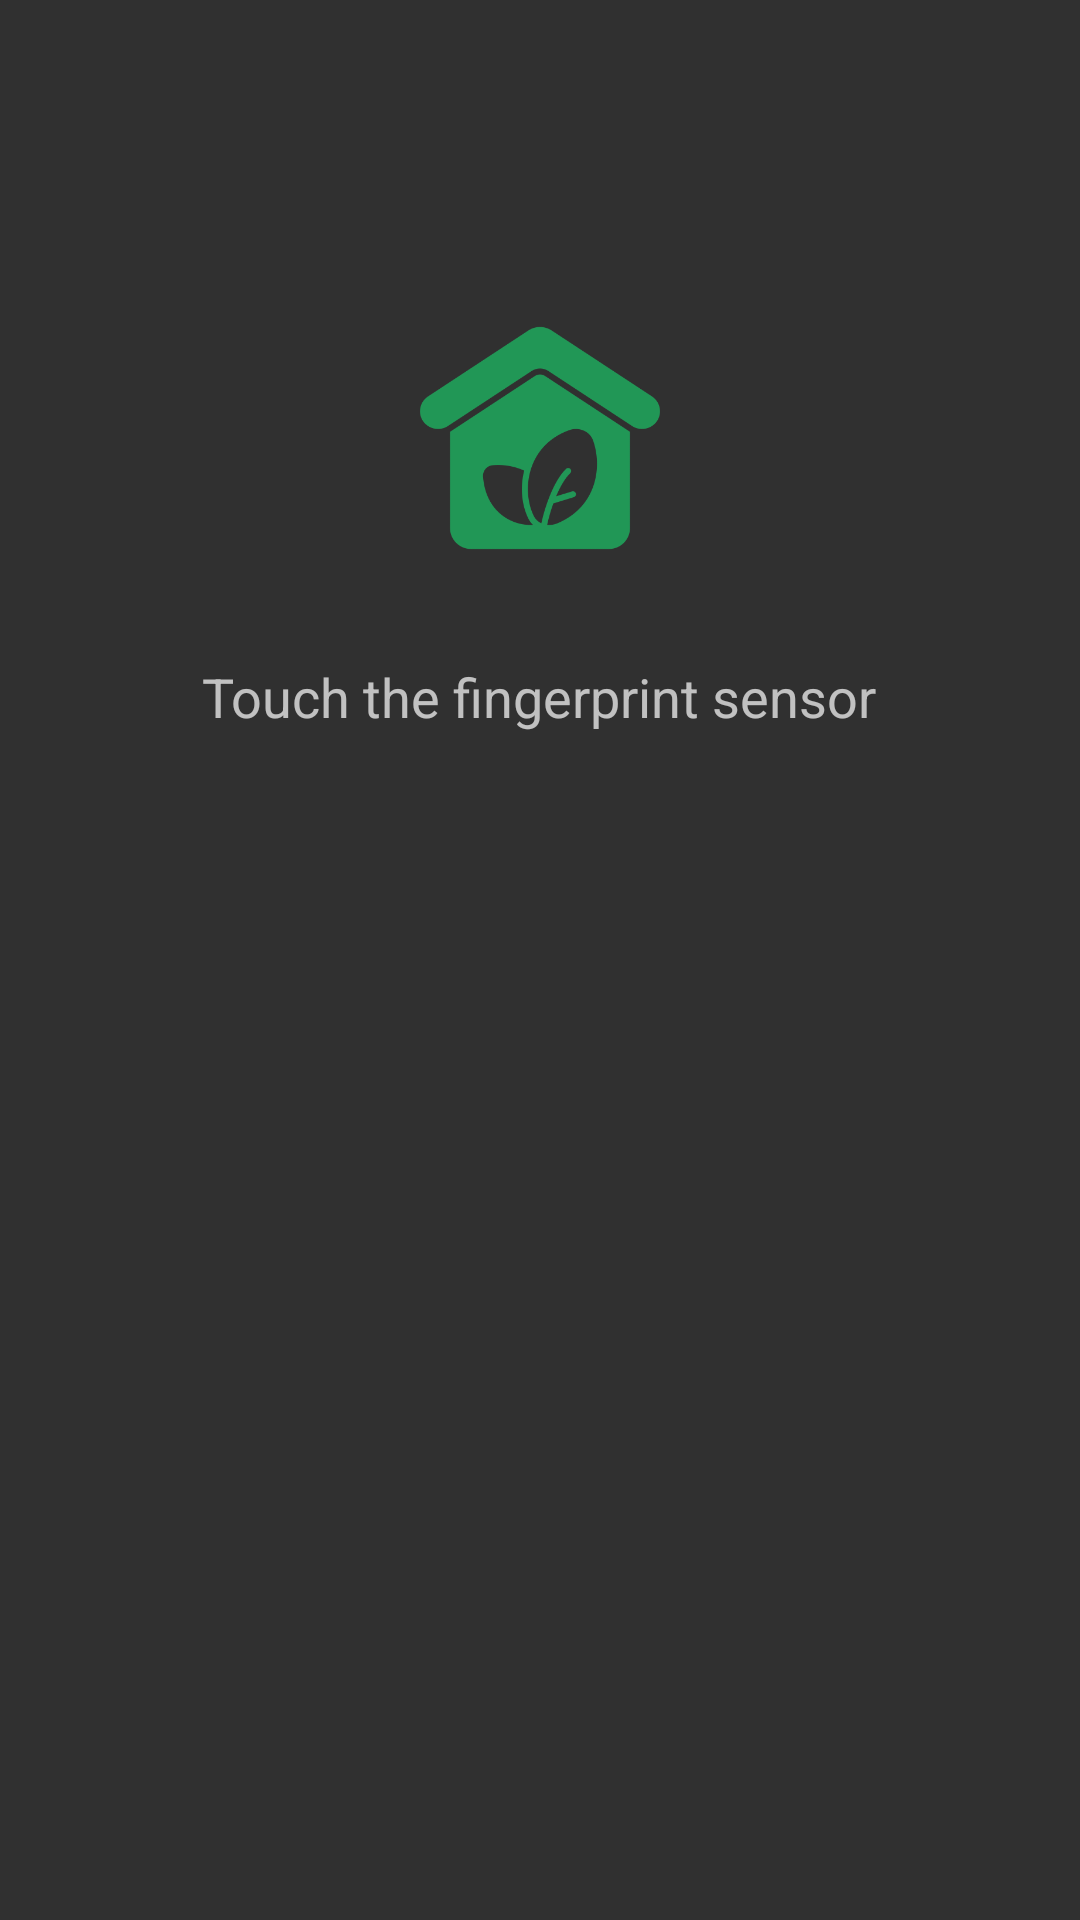

Where to tap for icons on this 1080w x 1920h app screen, as (x,y):
eco: (540,438)
